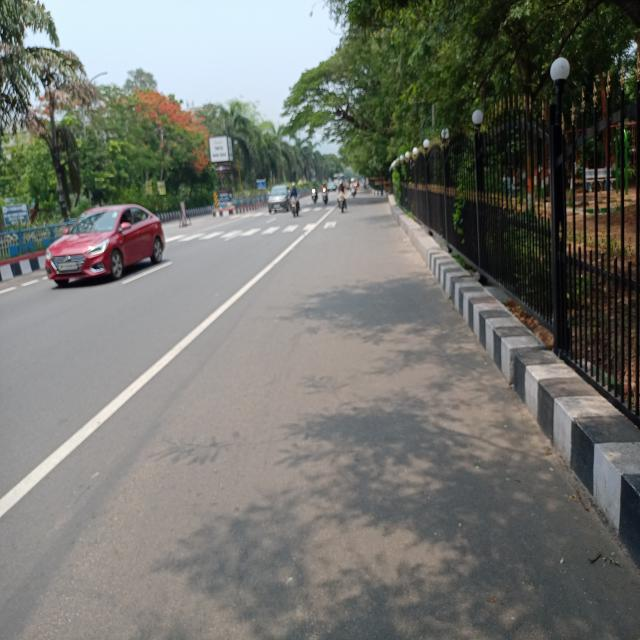bike: (336, 191, 349, 214), (289, 195, 298, 216), (312, 188, 318, 203)
car: (43, 198, 172, 288), (263, 179, 292, 216)
